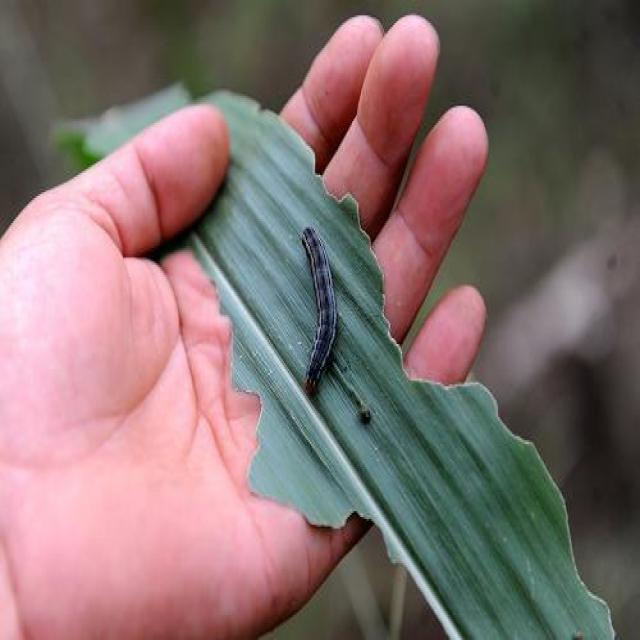pest: (300, 229, 340, 400)
